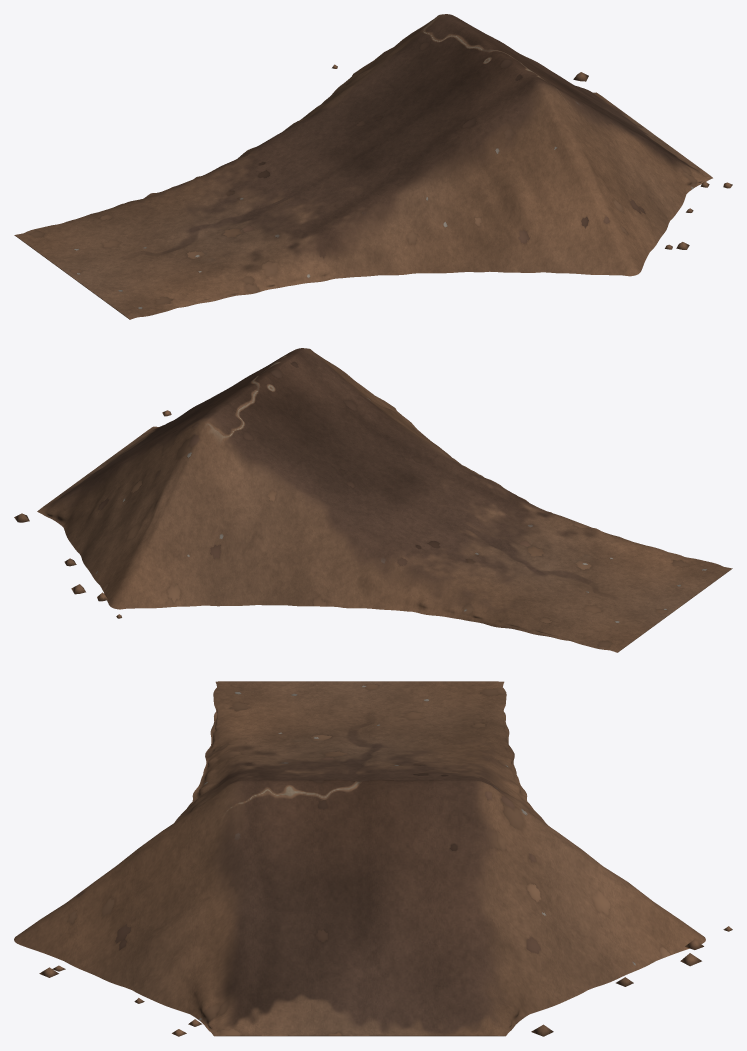
File: DR_Prop_WhipRamp.fbx
3 renders of one model, top to bottom at view 1: azimuth 30°, elevation 25°; view 2: azimuth 150°, elevation 25°; view 3: azimuth 270°, elevation 25°, orthographic. The views are drawn at different scales.
Visible parts, largest first — view 1: DR_Prop_WhipRamp; view 2: DR_Prop_WhipRamp; view 3: DR_Prop_WhipRamp.
Part boxes in pixels (x1=…): DR_Prop_WhipRamp: x1=14, y1=14, x2=732, y2=319; DR_Prop_WhipRamp: x1=14, y1=348, x2=732, y2=652; DR_Prop_WhipRamp: x1=14, y1=681, x2=732, y2=1036.
Size of the model in its own units: 2.7 by 0.5519 by 2.28.
Materials: 1 (1 with a texture image).
